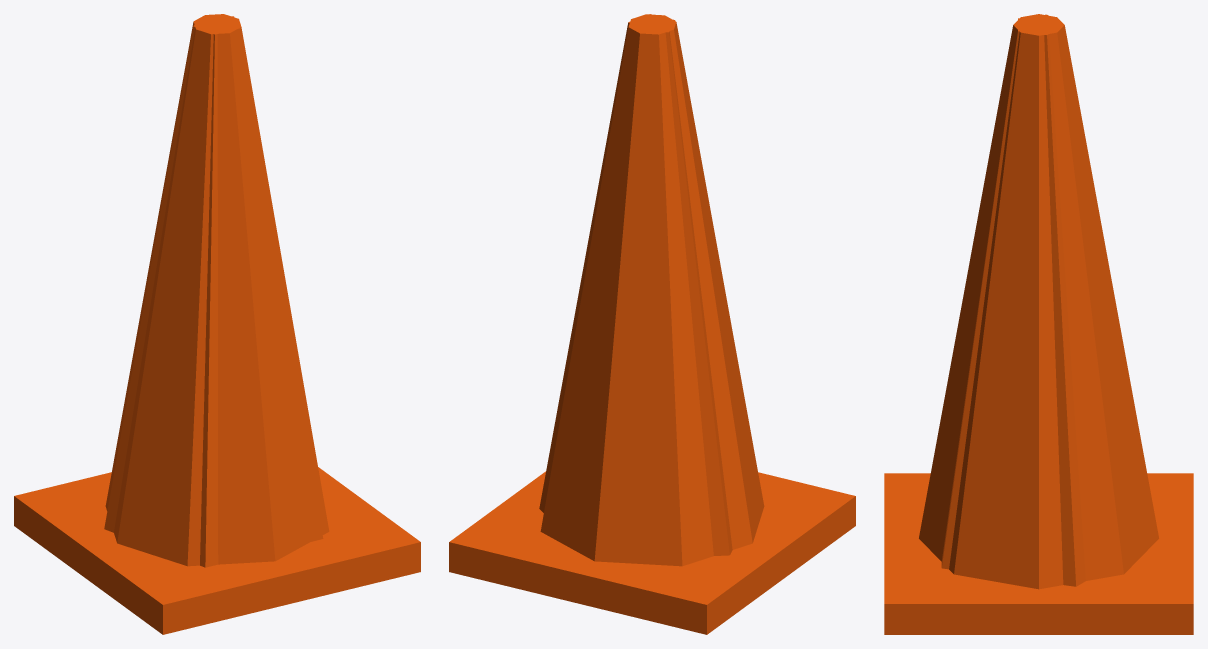
The model's file is bne_gse_cone.dae.
The picture shows the model from 3 angles, left to right: view 1: azimuth 30°, elevation 25°; view 2: azimuth 150°, elevation 25°; view 3: azimuth 270°, elevation 25°; orthographic projection. The views are drawn at different scales.
Parts seen in each view (by area): view 1: bne_gse_cone160, bne_gse_cone16; view 2: bne_gse_cone160, bne_gse_cone16; view 3: bne_gse_cone160, bne_gse_cone16.
Part boxes in pixels (x1,y1,x2,y2): bne_gse_cone160: [14, 14, 420, 634]; bne_gse_cone16: [104, 15, 323, 567]; bne_gse_cone160: [449, 14, 855, 634]; bne_gse_cone16: [539, 14, 732, 555]; bne_gse_cone160: [884, 14, 1193, 634]; bne_gse_cone16: [941, 14, 1085, 586].
Bounding box in the file's own units: 0.36 × 0.36 × 0.7.
